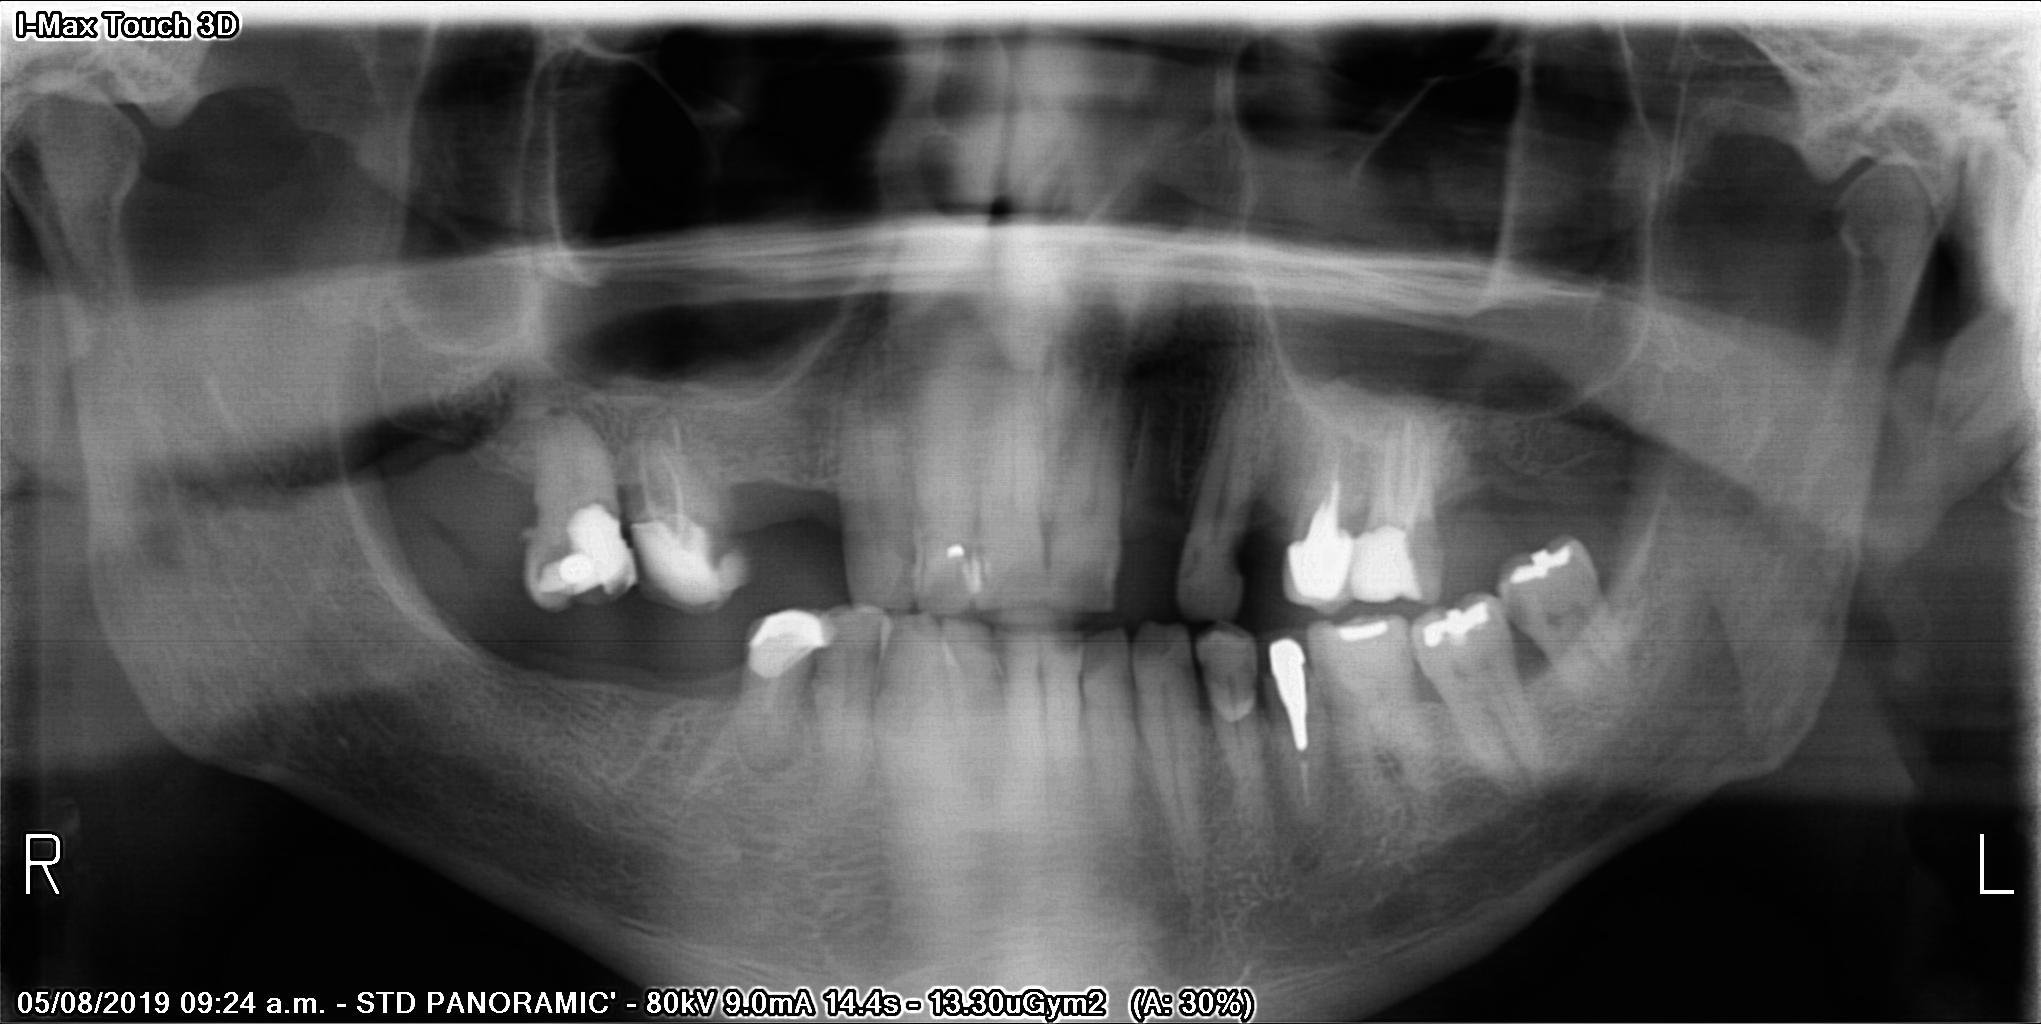Çürük: (531, 505, 642, 601), (656, 516, 753, 605), (740, 600, 837, 684), (1345, 524, 1419, 609), (1263, 636, 1314, 751), (1284, 528, 1346, 605), (1419, 601, 1496, 657), (1511, 533, 1571, 589), (945, 547, 983, 603), (1328, 618, 1404, 644)
Çürük Bölgesi: (689, 525, 742, 571), (533, 542, 578, 576), (581, 498, 633, 525), (1229, 526, 1244, 598)
